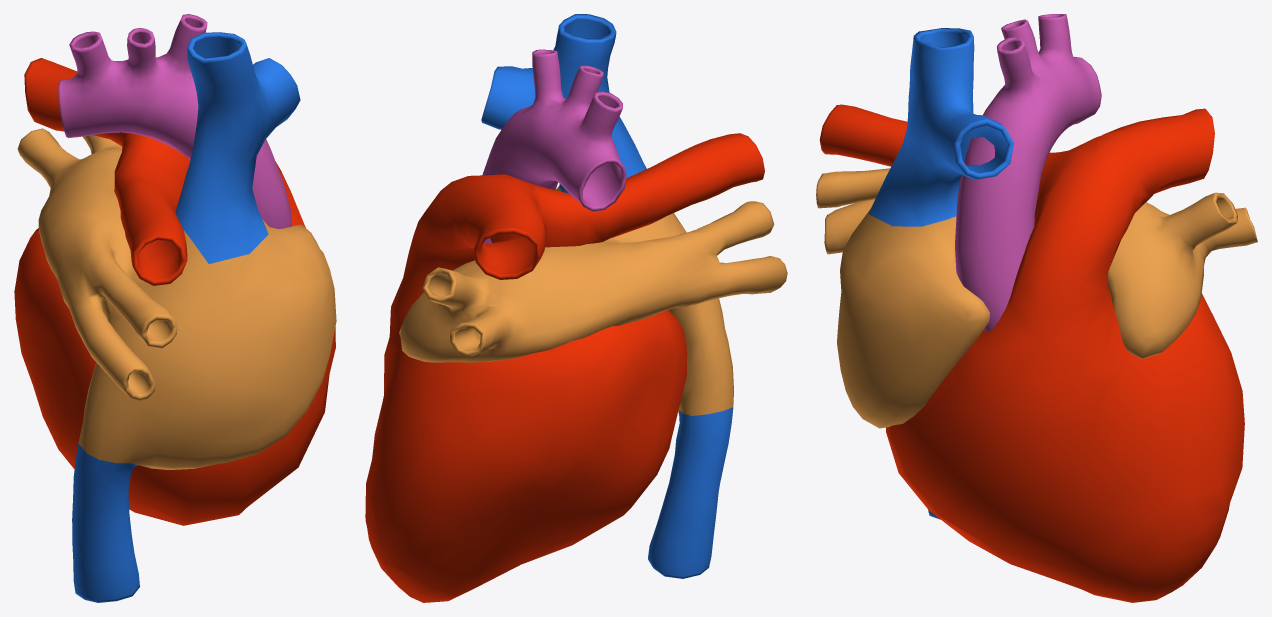
The model's file is Heart1_Ani.fbx.
3 views of the same model, side by side, from view 1: azimuth 30°, elevation 25°; view 2: azimuth 150°, elevation 25°; view 3: azimuth 270°, elevation 25° (orthographic). The views are drawn at different scales.
Parts seen in each view (by area): view 1: Heart1.002, Heart1.001, Heart1.003; view 2: Heart1.001, Heart1.002, Heart1.003; view 3: Heart1.001, Heart1.002, Heart1.003.
Part boxes in pixels (x1,y1,x2,y2): Heart1.002: [17, 32, 336, 602]; Heart1.001: [14, 58, 335, 525]; Heart1.003: [58, 14, 291, 228]; Heart1.001: [365, 133, 764, 602]; Heart1.002: [399, 14, 787, 578]; Heart1.003: [482, 49, 626, 243]; Heart1.001: [819, 104, 1244, 602]; Heart1.002: [816, 28, 1257, 519]; Heart1.003: [955, 14, 1101, 331].
Size of the model in its own units: 0.2259 by 0.38 by 0.2829.
